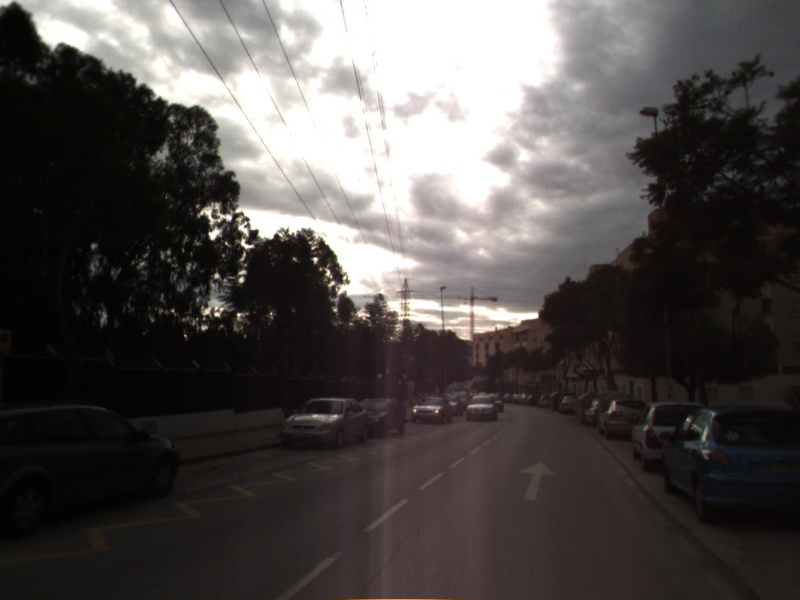STRAIGHT: (516, 459, 558, 502)
